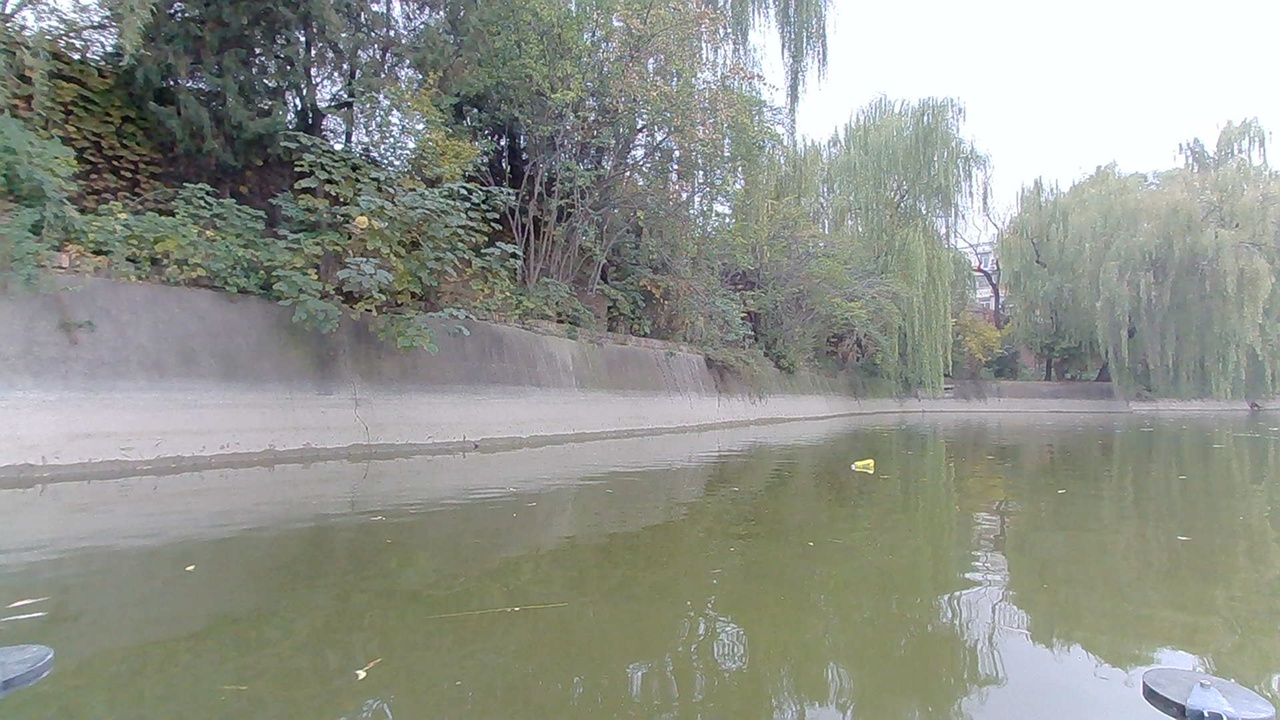bottle: (849, 455, 883, 478)
